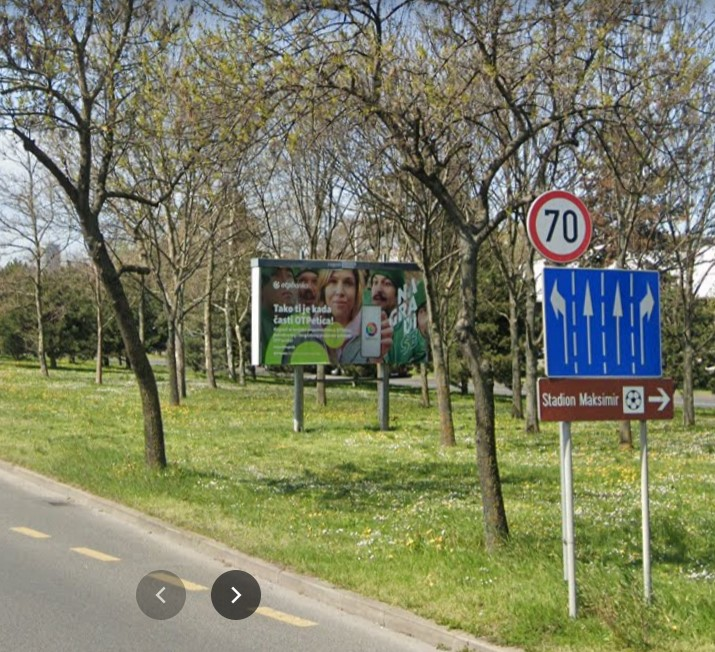Ograničenje brzine 70: (526, 189, 593, 264)
